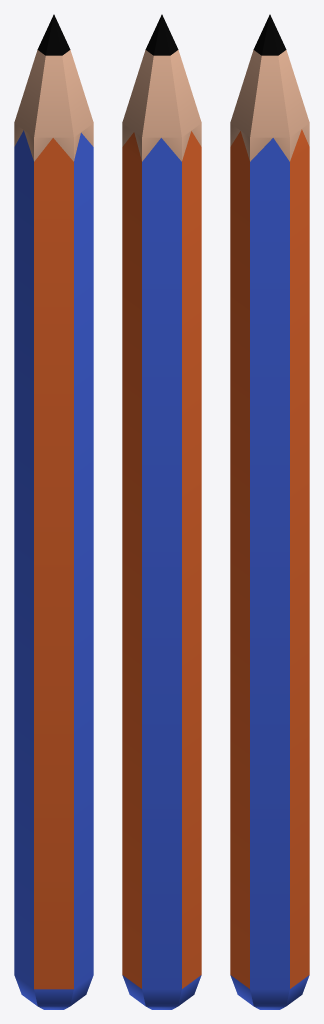
File: Pencil.fbx
3 views of the same model, side by side, from view 1: azimuth 90°, elevation 25°; view 2: azimuth 150°, elevation 25°; view 3: azimuth 270°, elevation 25° (orthographic).
Parts seen in each view (by area): view 1: Pencil; view 2: Pencil; view 3: Pencil.
Boxes of the visible parts, box(x1,y1,x2,y2) form: Pencil: box(14, 14, 93, 1009); Pencil: box(122, 14, 201, 1009); Pencil: box(230, 14, 309, 1009).
Size of the model in its own units: 0.0152 by 0.24 by 0.0175.
